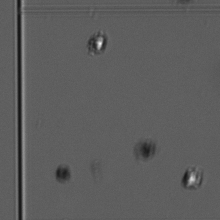Dead Cell: (135, 139, 158, 161), (53, 162, 75, 183)
Living Cell: (181, 165, 205, 191), (88, 31, 109, 56)
